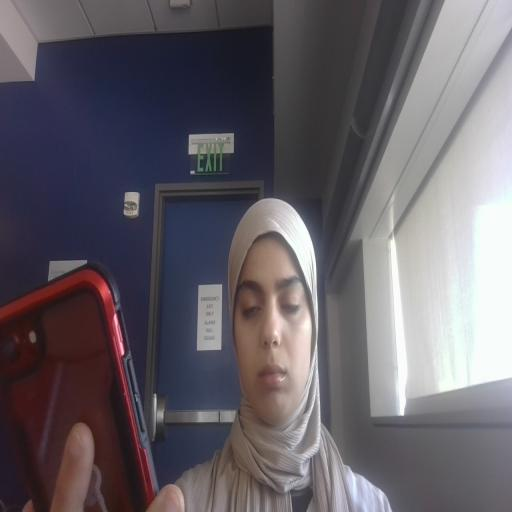phone: (1, 228, 188, 512)
